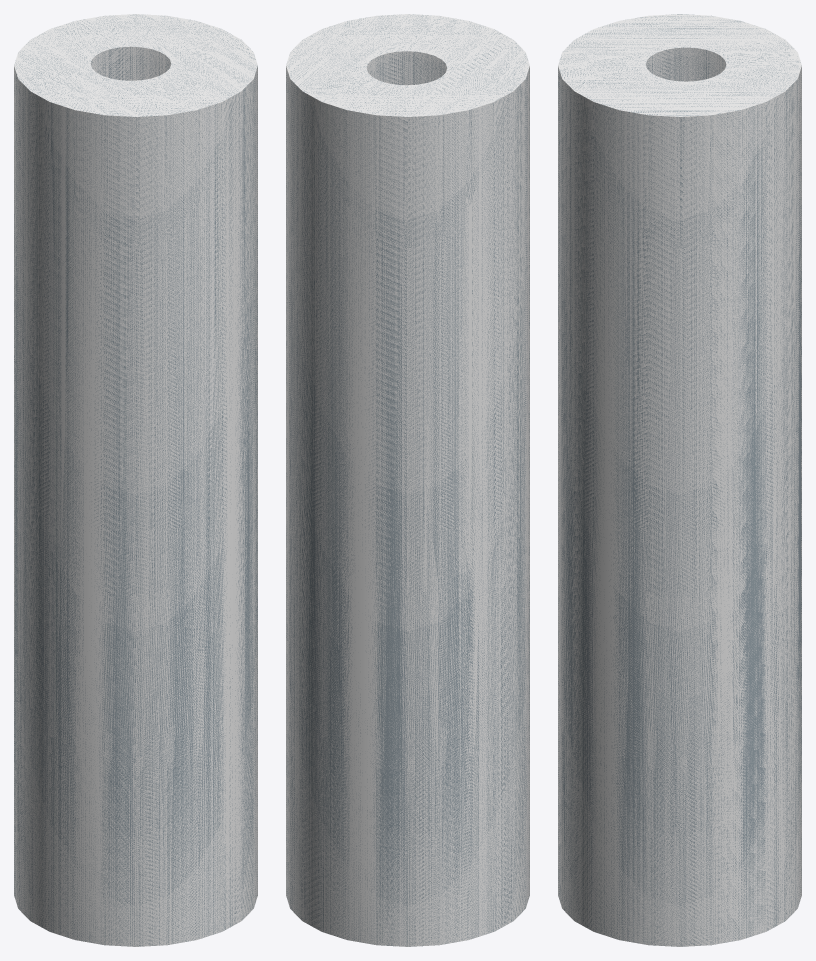
3 renders of one model, left to right at view 1: azimuth 30°, elevation 25°; view 2: azimuth 150°, elevation 25°; view 3: azimuth 270°, elevation 25°, orthographic.
Parts seen in each view (by area): view 1: Model; view 2: Model; view 3: Model.
Boxes of the visible parts, x1,y1,x2,y2 form: Model: (14,14,257,946); Model: (286,14,529,946); Model: (558,14,801,946).
Bounding box in the file's own units: 44.62 × 168 × 44.62.
